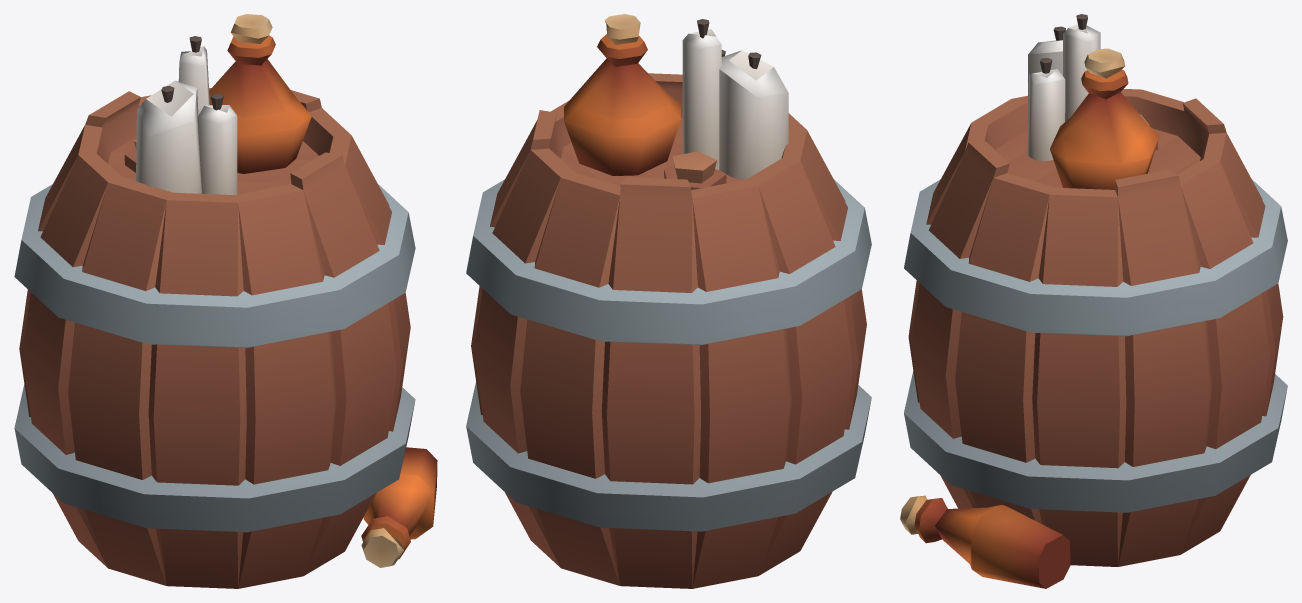
File: cc0-barrel-decorated-lod1.glb
3 views of the same model, side by side, from view 1: azimuth 30°, elevation 25°; view 2: azimuth 150°, elevation 25°; view 3: azimuth 270°, elevation 25° (orthographic). The views are drawn at different scales.
Parts seen in each view (by area): view 1: part_0; view 2: part_0; view 3: part_0.
Boxes of the visible parts, x1,y1,x2,y2 form: part_0: [14, 14, 437, 588]; part_0: [466, 14, 871, 588]; part_0: [900, 14, 1287, 588].
Bounding box in the file's own units: 1.94 × 2.55 × 1.86.
1 material, 1 textured.
